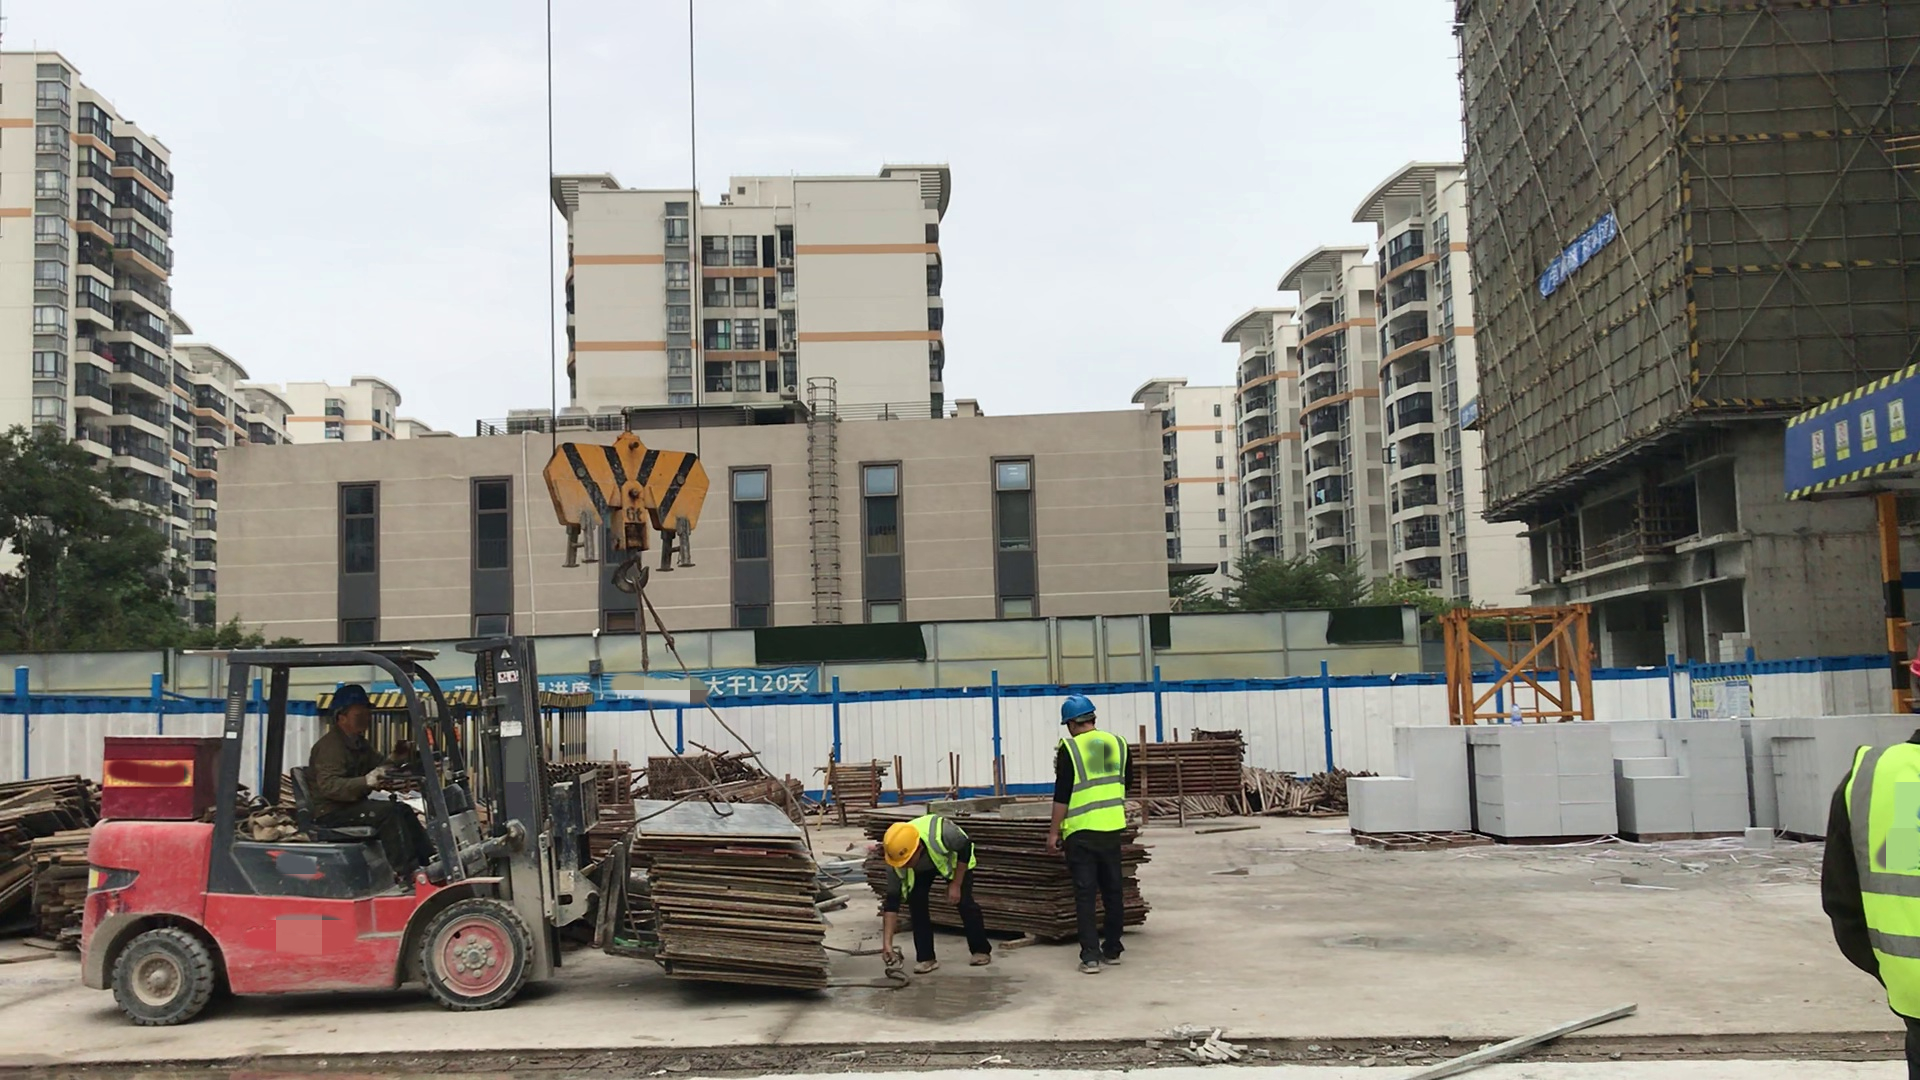board: (598, 781, 860, 1016), (856, 793, 1163, 953), (2, 747, 95, 939)
brick: (1337, 704, 1919, 870)
helmet: (1052, 684, 1108, 742), (875, 812, 923, 877), (320, 674, 371, 724)
hook: (519, 407, 775, 624)
person: (1023, 661, 1170, 974), (1812, 660, 1918, 1080), (297, 670, 454, 883), (875, 796, 1009, 992)
scaffold: (1135, 725, 1269, 808), (676, 771, 809, 815), (547, 752, 633, 803)
slogan: (396, 669, 831, 723), (1772, 365, 1920, 512), (1515, 207, 1627, 305), (1449, 400, 1491, 434)
vest: (1837, 738, 1920, 1022), (1056, 734, 1139, 838), (902, 801, 990, 893)
